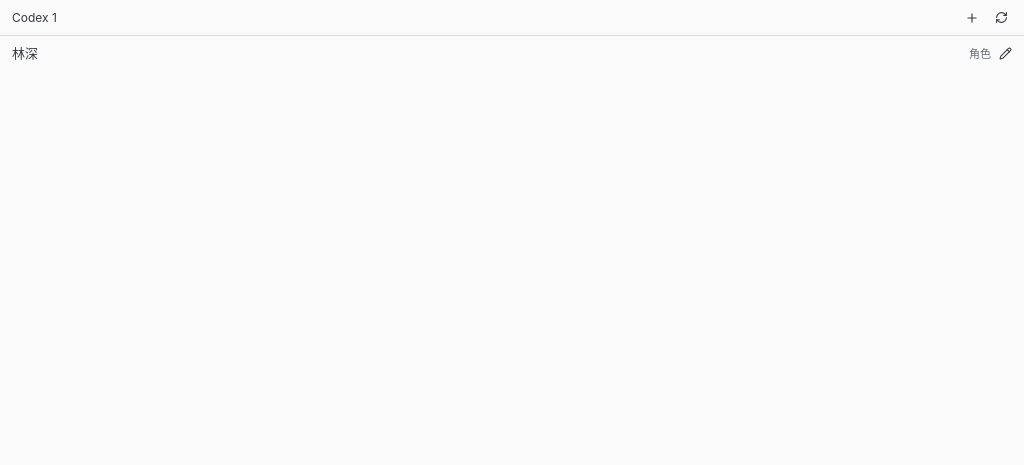
Codex user workflow against the file IPC boundary › refuses duplicate names without discarding the form
This screenshot has width=1024, height=465.
Check: the button with aria-label "打开 林深" is shown, box 8,40 -> 995,68
Click the button named "添加条目": click(972, 18) 961,6 -> 983,28
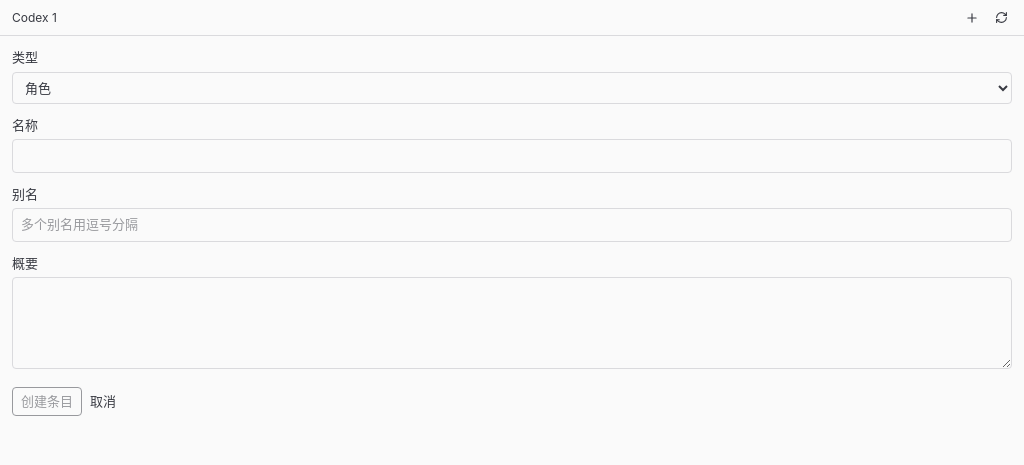
In the field labelled "名称": (512, 156) 12,139 -> 1012,172, type "小林"
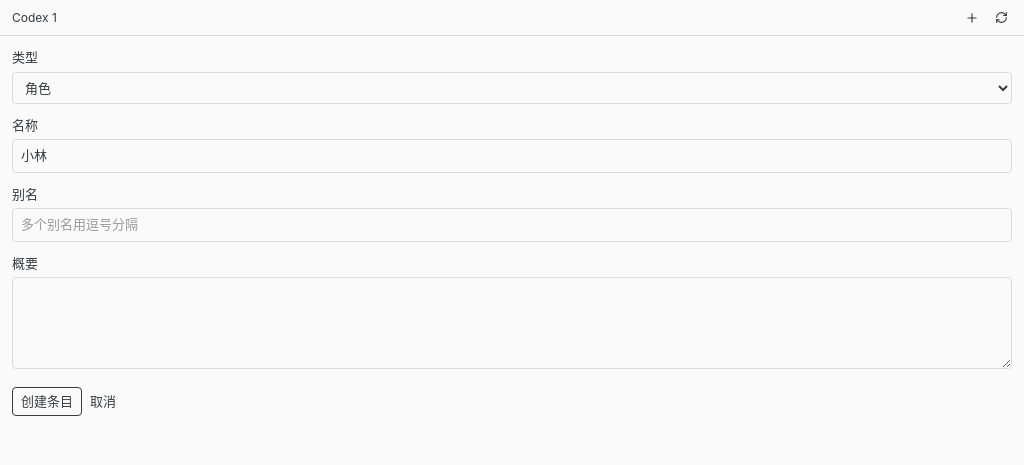
Click the button "创建条目": click(47, 401) 12,386 -> 82,416
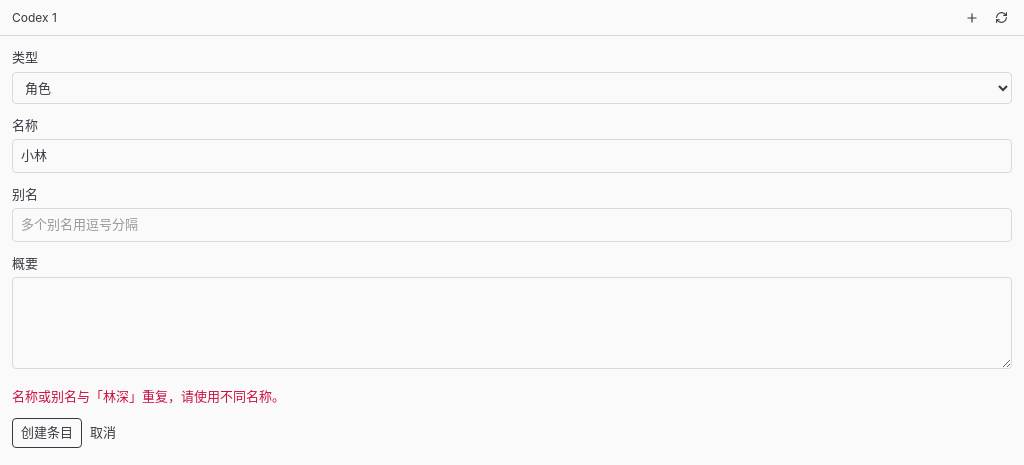
Check: the text "名称或别名与「林深」重复，请使用不同名称。" is shown, box 12,388 -> 285,404
